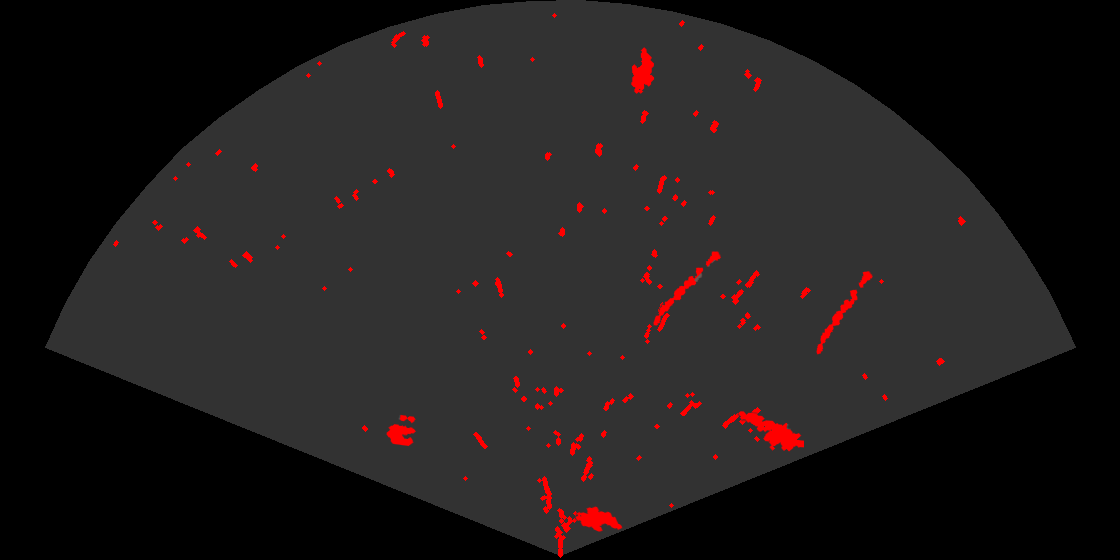AUV: (574, 505, 624, 533), (630, 46, 655, 95)
ball: (385, 413, 417, 448)
chain: (652, 250, 723, 327), (815, 269, 874, 356)
frogman: (737, 410, 804, 453)
